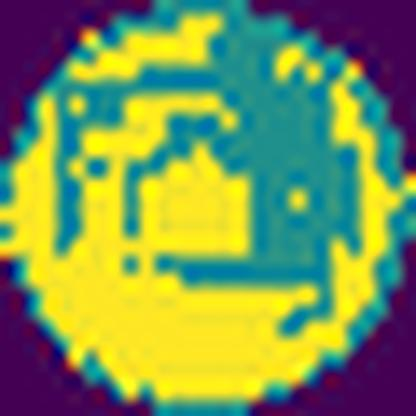Random: (6, 12, 415, 401)
